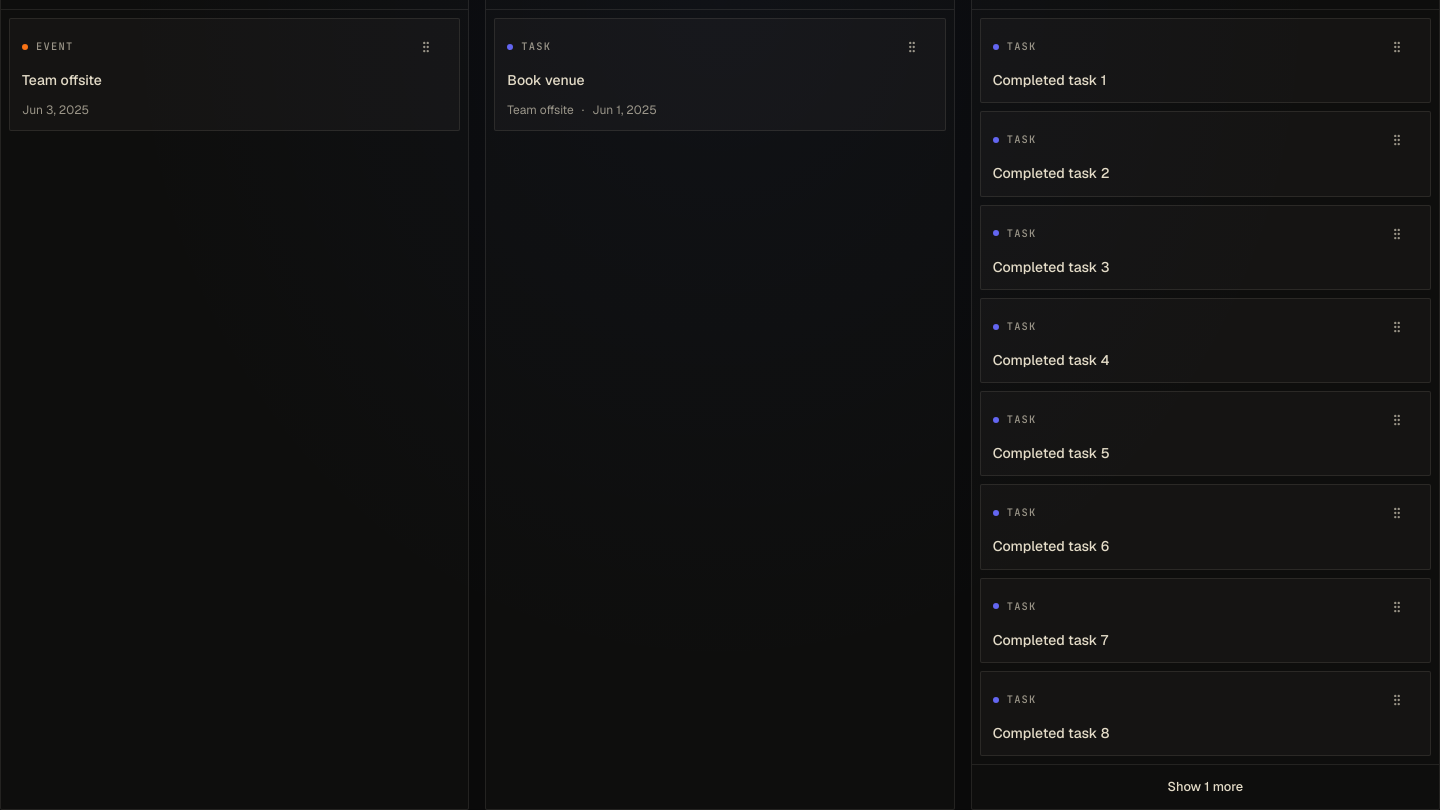
Scenario: ViewsKanban › collapses Done to eight cards by default and expands it on demand
This screenshot has width=1440, height=810.
(page scrolled)
Expected: the element with test id "kanban-card-done-8" is shown, [980, 671, 1431, 756]
Click the button with test id "kanban-done-toggle": point(1205, 787) [980, 773, 1431, 801]
(page scrolled)
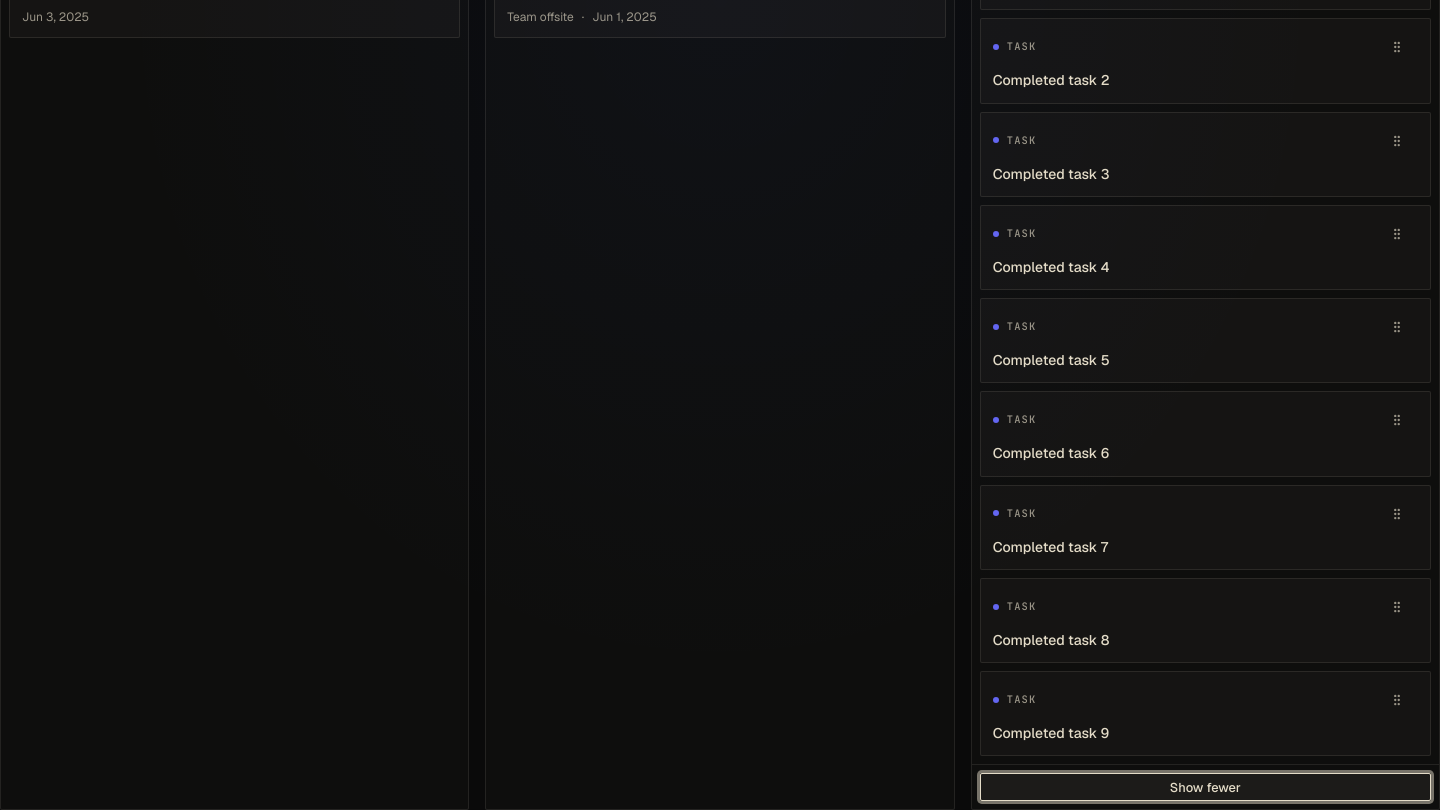
Now the element with test id "kanban-card-done-9" is shown, box [980, 671, 1431, 756]
Click the button with test id "kanban-done-toggle": point(1205, 787) [980, 773, 1431, 801]
(page scrolled)
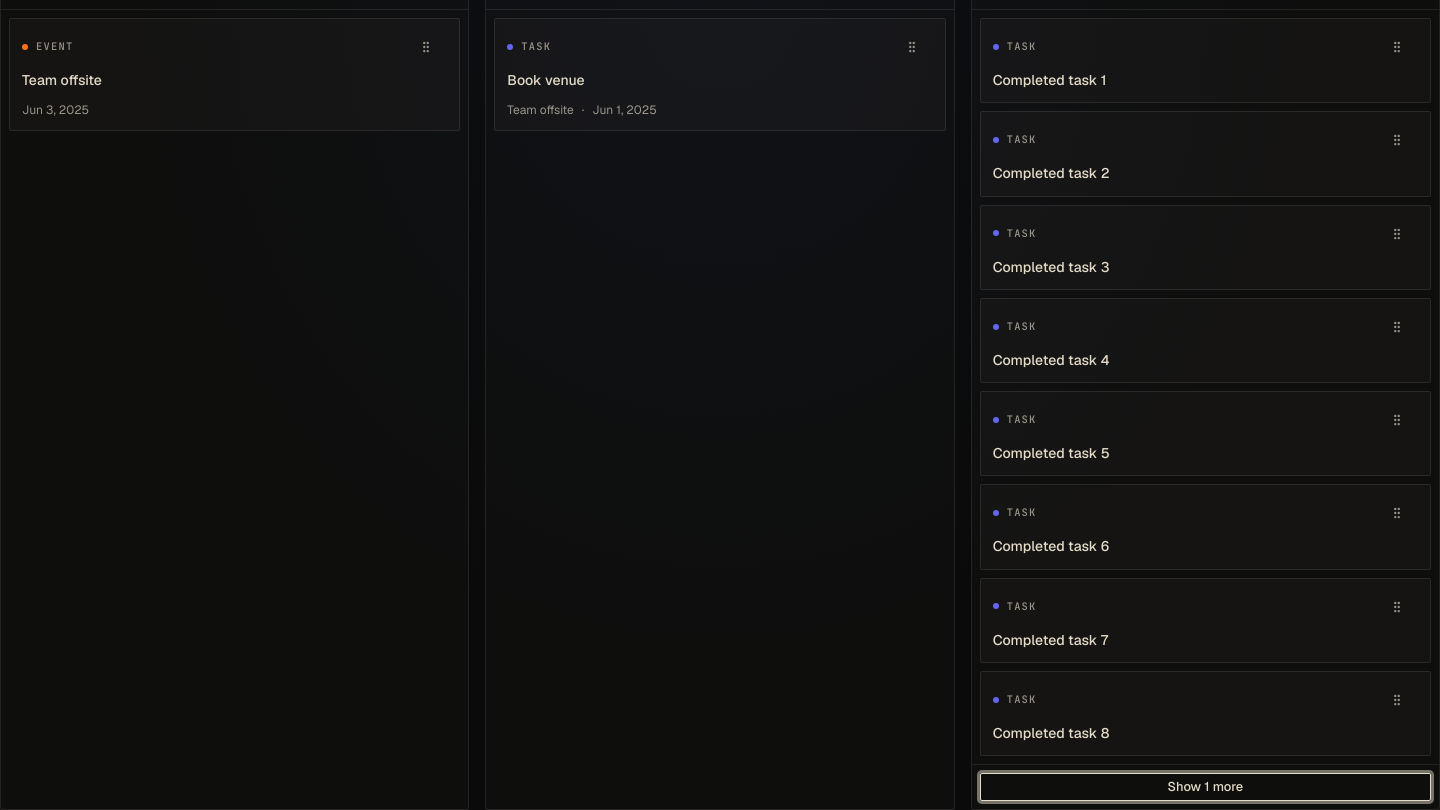
Now the element with test id "kanban-card-done-9" is gone
